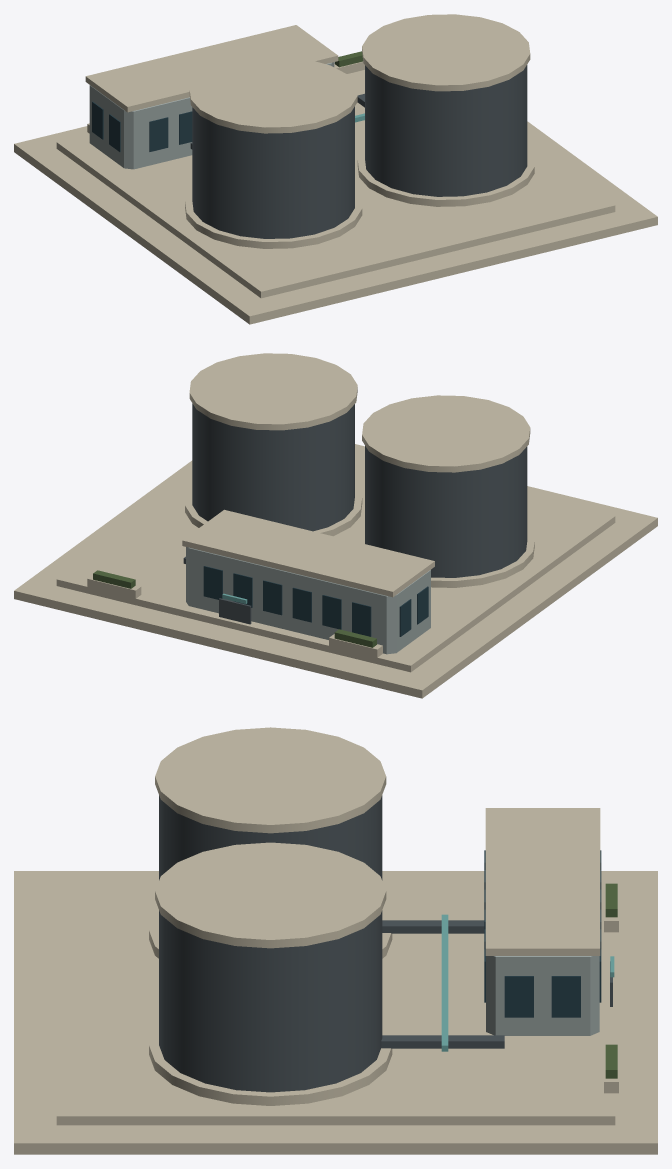
Rendered from infrastructure.glb.
3 views of the same model, one above another, from view 1: azimuth 30°, elevation 25°; view 2: azimuth 150°, elevation 25°; view 3: azimuth 270°, elevation 25° (orthographic). The views are drawn at different scales.
Parts seen in each view (by area): view 1: water-tanks, plinth, tank-caps, foundation, roof-slabs, tank-bases, plant-control-room, windows; view 2: water-tanks, foundation, tank-caps, plinth, roof-slabs, plant-control-room, windows, tank-bases, planters, planting, entry; view 3: plinth, foundation, tank-caps, water-tanks, roof-slabs, plant-control-room, tank-bases, windows, service-pipes, pipe-manifold, planting, planters.
Boxes of the visible parts, bbox=[...] form: water-tanks: bbox=[192, 65, 527, 238]; plinth: bbox=[56, 70, 615, 298]; tank-caps: bbox=[189, 14, 530, 133]; foundation: bbox=[14, 121, 657, 324]; roof-slabs: bbox=[85, 25, 338, 112]; tank-bases: bbox=[185, 147, 534, 248]; plant-control-room: bbox=[89, 62, 334, 169]; windows: bbox=[92, 101, 192, 151]; water-tanks: bbox=[192, 403, 527, 577]; foundation: bbox=[14, 444, 657, 698]; tank-caps: bbox=[189, 353, 530, 472]; plinth: bbox=[56, 452, 615, 672]; roof-slabs: bbox=[182, 509, 434, 597]; plant-control-room: bbox=[186, 547, 430, 654]; windows: bbox=[203, 566, 428, 636]; tank-bases: bbox=[185, 487, 534, 587]; planters: bbox=[87, 575, 382, 657]; planting: bbox=[93, 570, 376, 647]; entry: bbox=[219, 598, 251, 624]; plinth: bbox=[56, 880, 615, 1125]; foundation: bbox=[14, 871, 657, 1154]; tank-caps: bbox=[155, 727, 386, 948]; water-tanks: bbox=[159, 795, 382, 1092]; roof-slabs: bbox=[485, 808, 600, 955]; plant-control-room: bbox=[486, 956, 599, 1035]; tank-bases: bbox=[149, 911, 392, 1105]; windows: bbox=[484, 850, 601, 1017]; service-pipes: bbox=[381, 920, 504, 1048]; pipe-manifold: bbox=[441, 914, 448, 1051]; planting: bbox=[605, 883, 617, 1078]; planters: bbox=[604, 888, 618, 1093].
Size of the model in its own units: 15.52 by 4.91 by 15.52.
